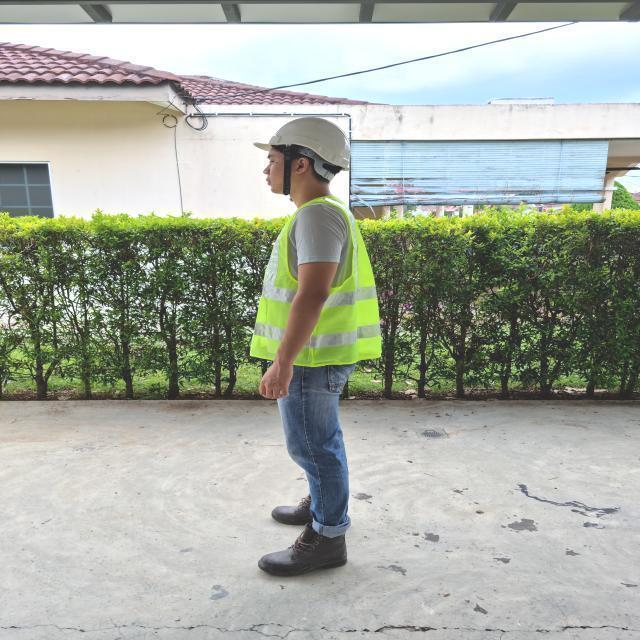vest: (248, 199, 383, 367)
